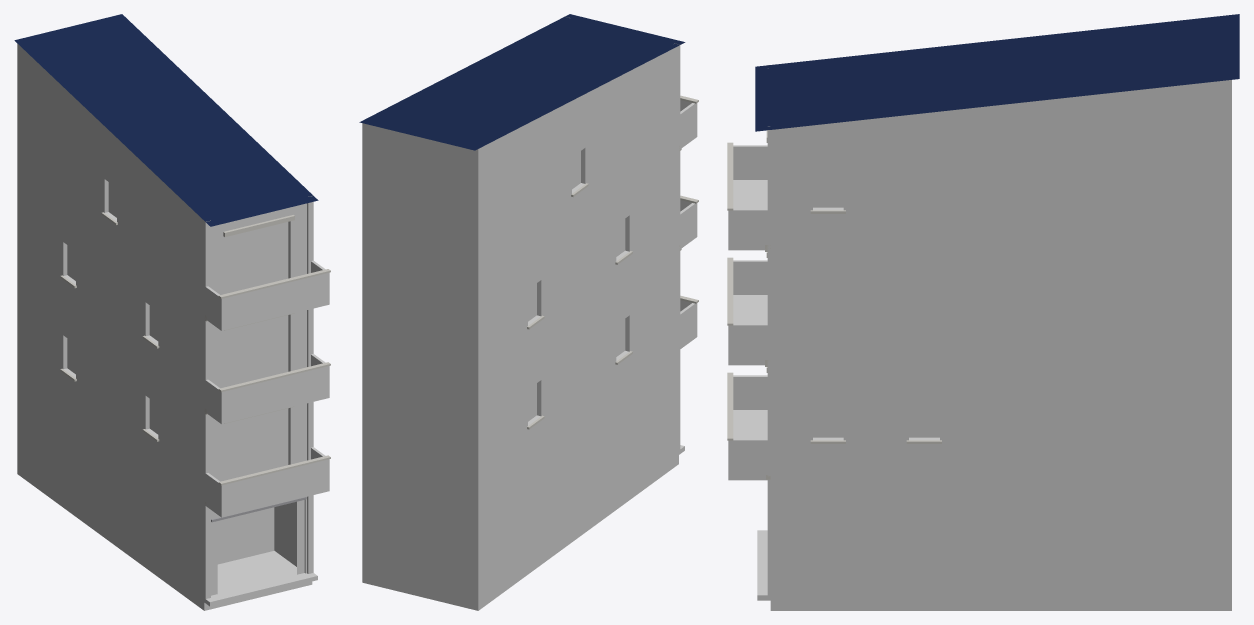
3 views of the same model, side by side, from view 1: azimuth 30°, elevation 25°; view 2: azimuth 150°, elevation 25°; view 3: azimuth 270°, elevation 25° (orthographic). The views are drawn at different scales.
Visible parts, largest first — view 1: TH_D12_LR_23_LOD0; view 2: TH_D12_LR_23_LOD0; view 3: TH_D12_LR_23_LOD0.
Boxes of the visible parts, x1,y1,x2,y2 form: TH_D12_LR_23_LOD0: [14, 14, 330, 610]; TH_D12_LR_23_LOD0: [359, 14, 698, 610]; TH_D12_LR_23_LOD0: [727, 14, 1239, 610].
Size of what is drawn, in the model's own units: 4.16 by 15.26 by 13.33.
